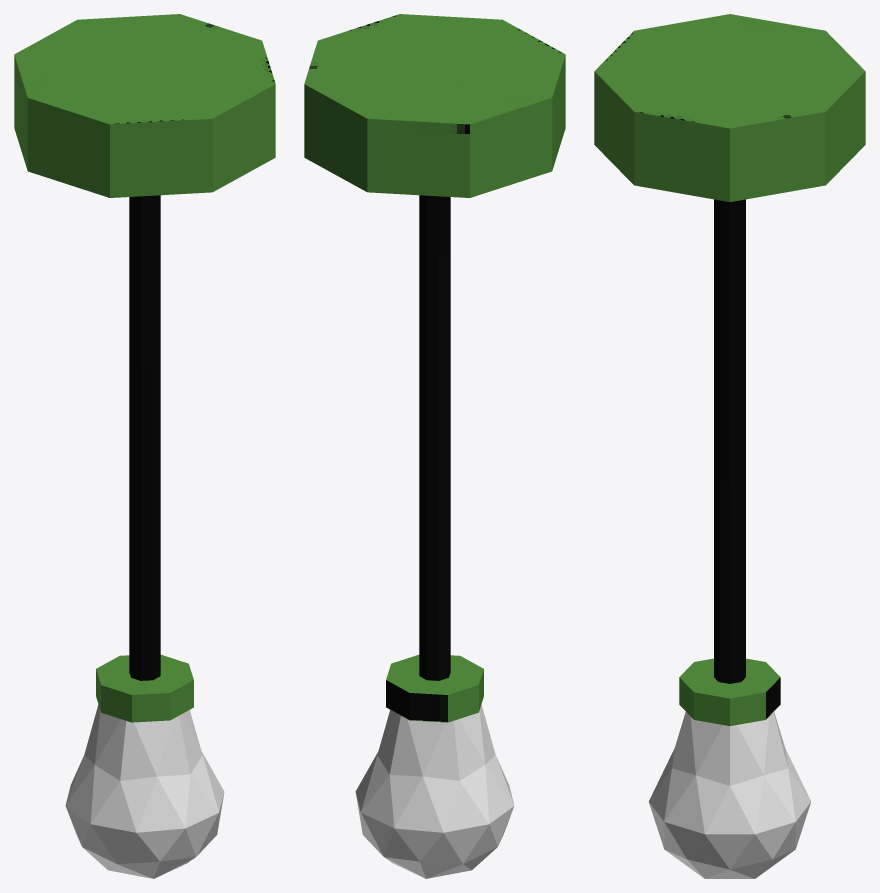
File: ceiling_lamp.glb
3 renders of one model, left to right at view 1: azimuth 30°, elevation 25°; view 2: azimuth 150°, elevation 25°; view 3: azimuth 270°, elevation 25°, orthographic.
Parts seen in each view (by area): view 1: LampBase, Glühbirne; view 2: LampBase, Glühbirne; view 3: LampBase, Glühbirne.
Boxes of the visible parts, x1,y1,x2,y2 form: LampBase: (14, 14, 275, 722); Glühbirne: (65, 704, 224, 878); LampBase: (304, 14, 565, 722); Glühbirne: (355, 704, 514, 878); LampBase: (594, 14, 865, 725); Glühbirne: (648, 711, 811, 878).
Size of the model in its own units: 0.1 by 0.3274 by 0.1.
Materials: 1 (1 with a texture image).
